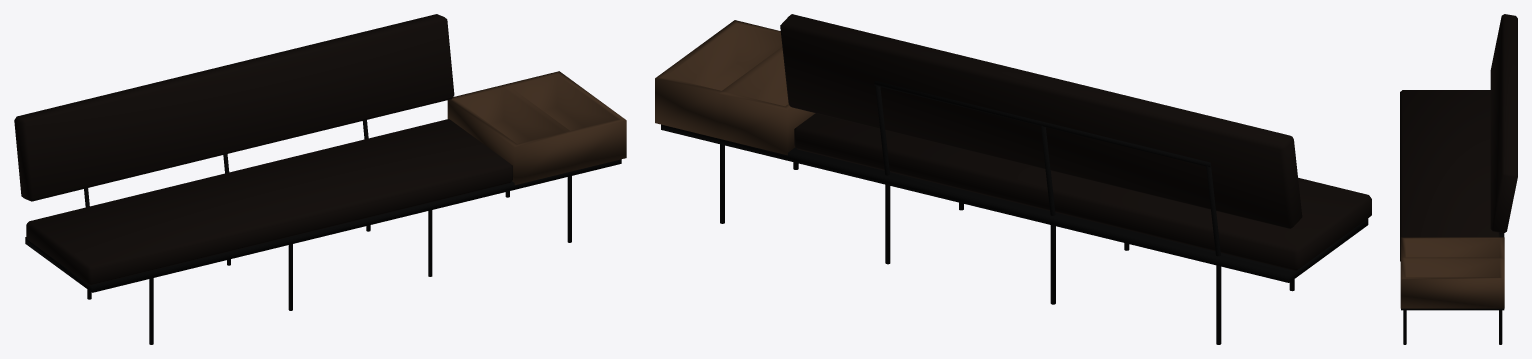
Rendered from Sofa-Lobby_01.fbx.
3 renders of one model, left to right at view 1: azimuth 30°, elevation 25°; view 2: azimuth 150°, elevation 25°; view 3: azimuth 270°, elevation 25°, orthographic. The views are drawn at different scales.
Visible parts, largest first — view 1: Sofa_01; view 2: Sofa_01; view 3: Sofa_01.
Boxes of the visible parts, x1,y1,x2,y2 form: Sofa_01: (14, 14, 626, 344); Sofa_01: (655, 14, 1371, 344); Sofa_01: (1400, 14, 1517, 344).
Size of the model in its own units: 2.9 by 0.9909 by 0.7113.
